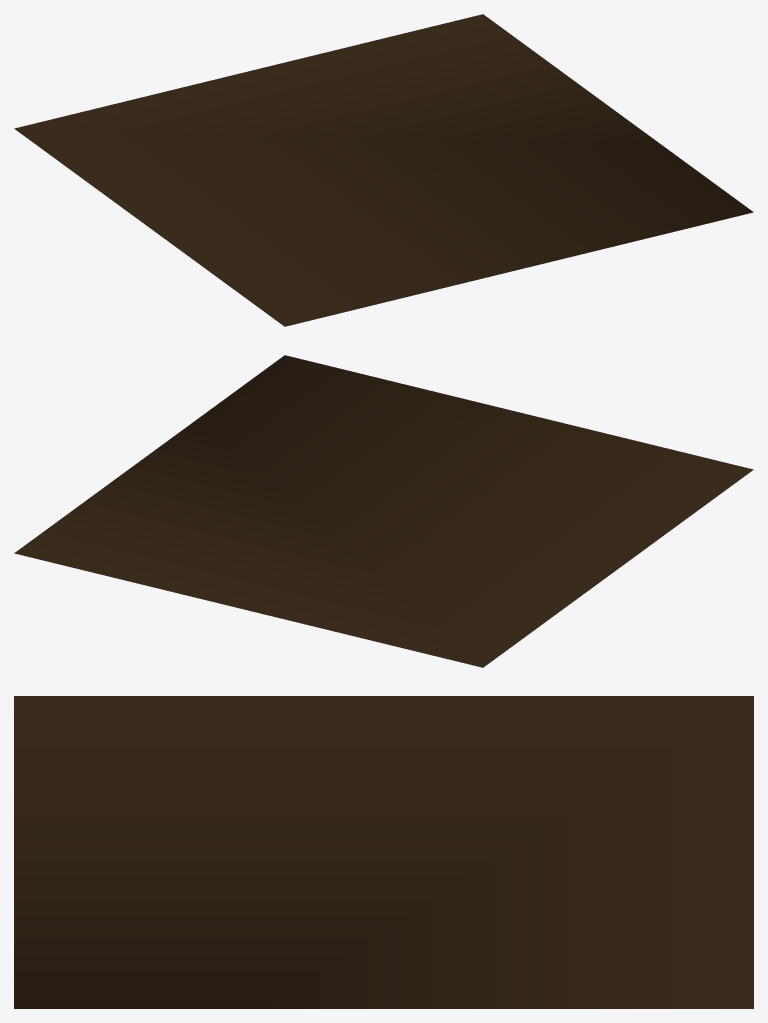
The picture shows the model from 3 angles, top to bottom: view 1: azimuth 30°, elevation 25°; view 2: azimuth 150°, elevation 25°; view 3: azimuth 270°, elevation 25°; orthographic projection. The views are drawn at different scales.
Bounding box in the file's own units: 0.5 × 0 × 0.5.
1 material, 1 textured.
